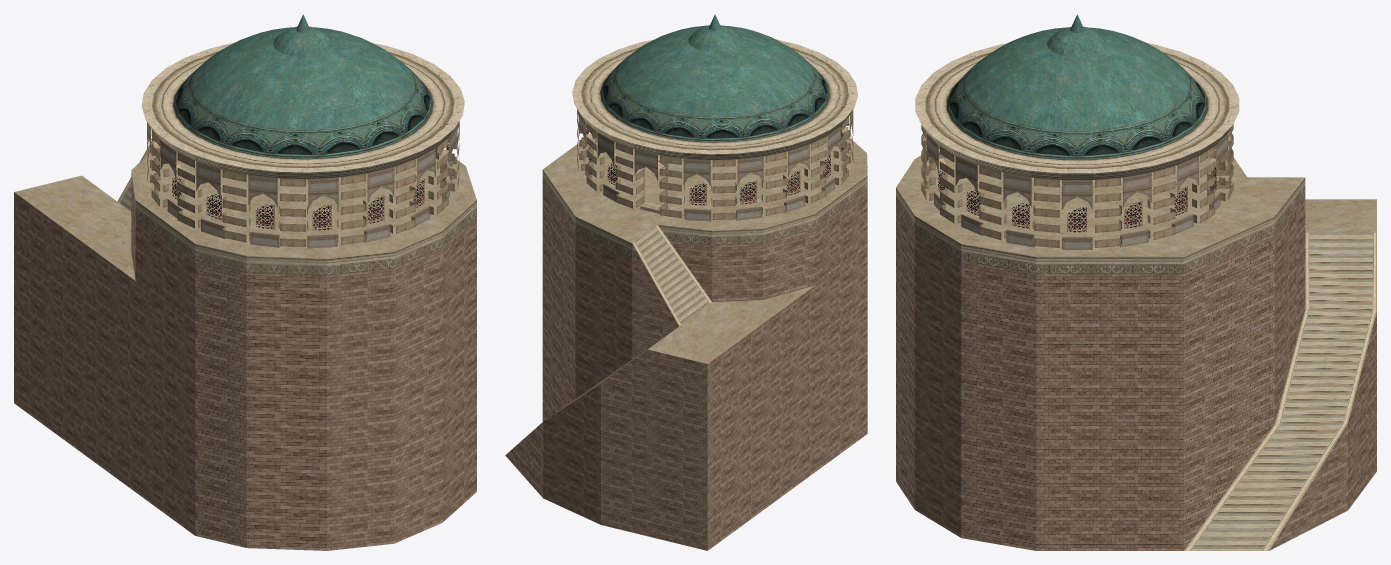
The model's file is ply_nboo_house_sm_s01_fp1_r0_mesh_l0.fbx.
The picture shows the model from 3 angles, left to right: view 1: azimuth 30°, elevation 25°; view 2: azimuth 150°, elevation 25°; view 3: azimuth 270°, elevation 25°; orthographic projection. The views are drawn at different scales.
Parts seen in each view (by area): view 1: mesh_node; view 2: mesh_node; view 3: mesh_node.
Part boxes in pixels (<box>): mesh_node: <box>14,14,476,550</box>; mesh_node: <box>505,14,867,550</box>; mesh_node: <box>896,14,1376,550</box>.
Bounding box in the file's own units: 16.69 × 26.2 × 24.44.
